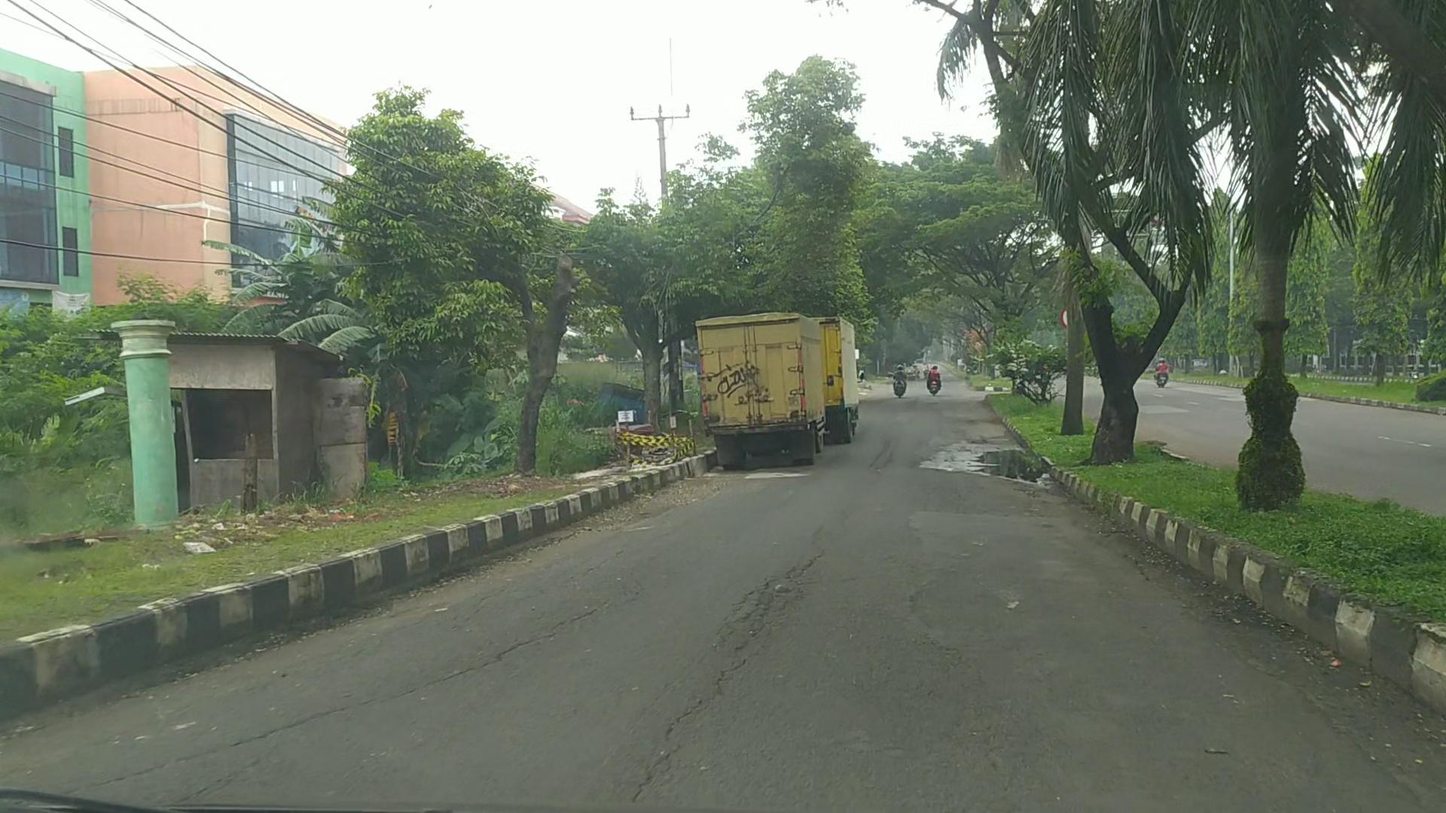pothole: (923, 437, 1052, 488)
